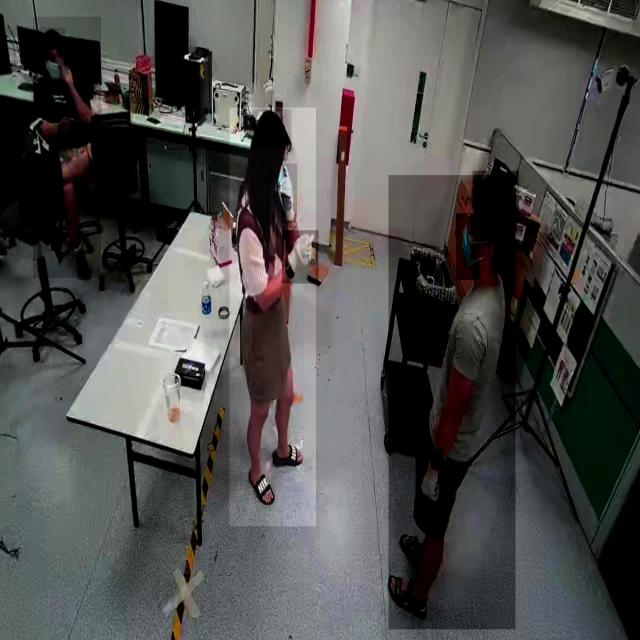face_mask: (456, 213, 480, 280), (40, 50, 64, 90)
hand_glove: (282, 230, 319, 284), (416, 449, 444, 516), (282, 164, 297, 223)
hand_noglove: (58, 113, 72, 135), (62, 65, 73, 83)
head_nohelmet: (473, 170, 519, 210), (252, 109, 292, 151), (40, 27, 66, 49)
person: (388, 175, 516, 630), (230, 108, 316, 527), (33, 17, 101, 279)
